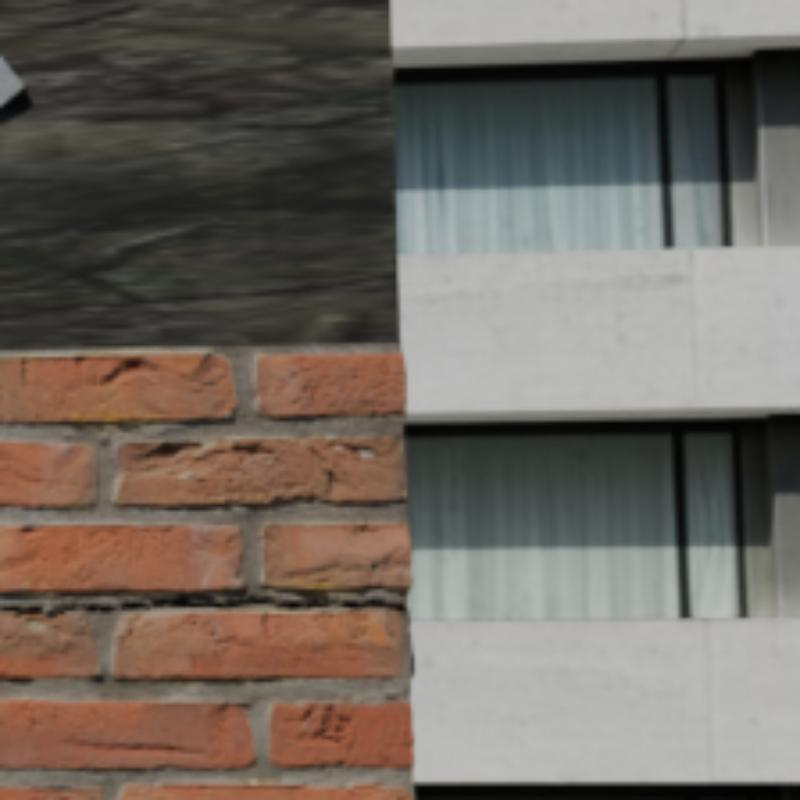crack: (0, 596, 404, 614)
